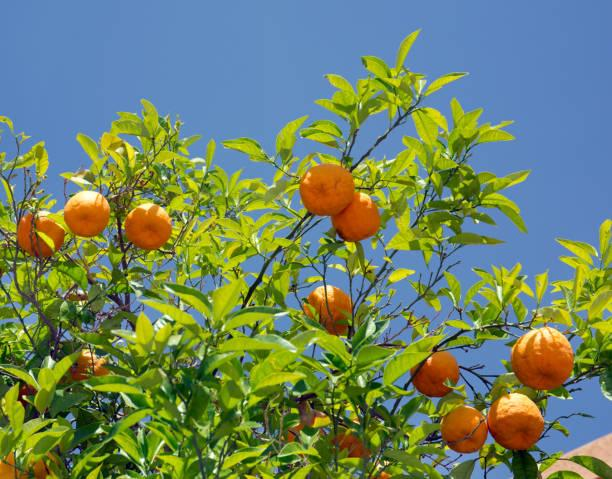orange: (301, 157, 396, 245), (448, 392, 539, 455), (512, 322, 576, 386), (4, 209, 70, 271), (64, 175, 123, 241), (304, 276, 354, 333), (410, 338, 461, 391), (132, 207, 167, 240)
